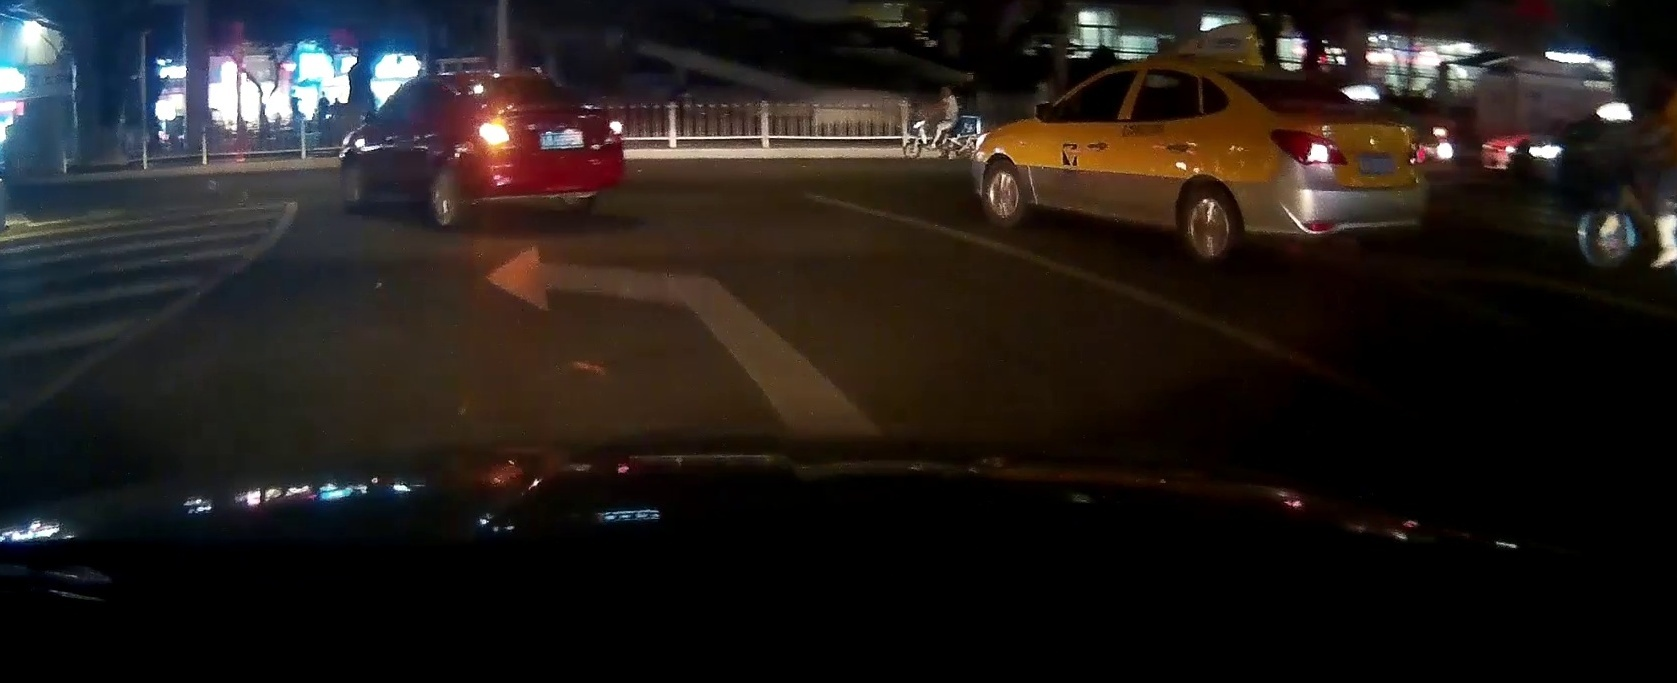L_light: (1270, 128, 1347, 166), (479, 124, 513, 148)
R_light: (1406, 137, 1426, 164), (601, 121, 624, 143)
T_light: (1268, 77, 1298, 86), (487, 76, 512, 83)
night-left: (1216, 62, 1430, 265), (450, 69, 625, 228)
